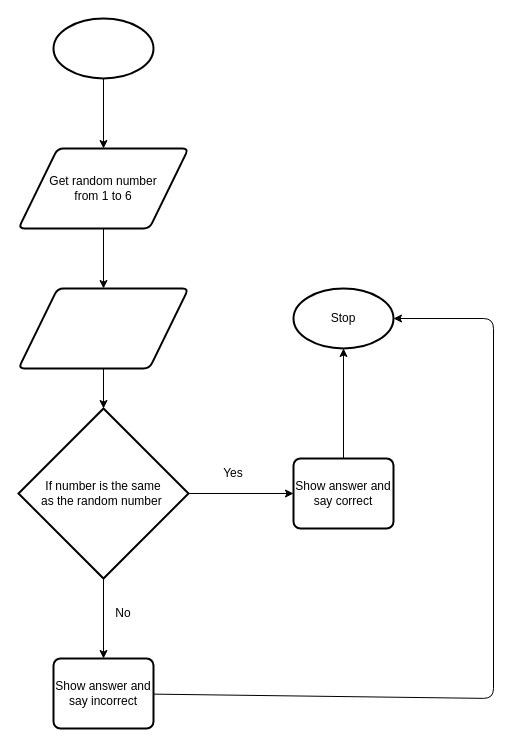
Some shapes in this 519 by 746 pixel diagram are drawn without their labels. Each missing label, with the box of its shape:
Start: (52, 17, 154, 79)
User input a number between 1 and 6: (17, 287, 189, 369)
